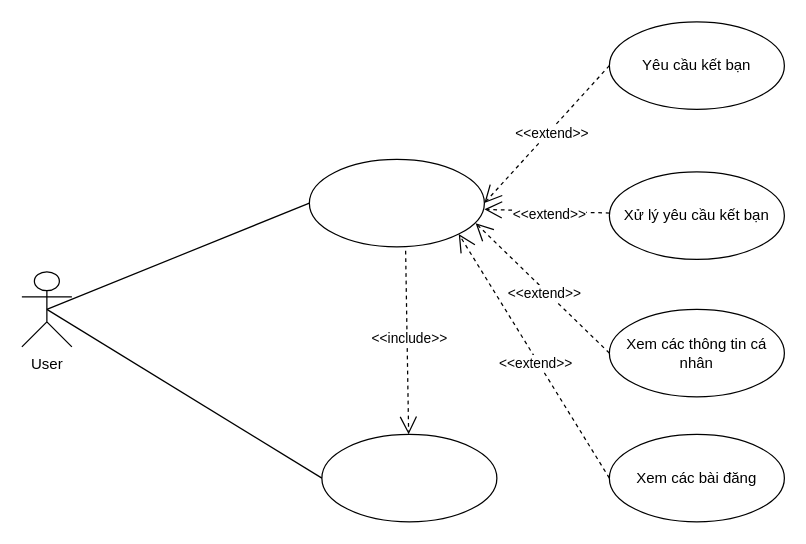
Some shapes in this 806 by 544 pixel diagram are drawn without their labels. Each missing label, with the centre of its shape:
"Xem thông tin người dùng" goes at (396,202).
"Đăng nhập" goes at (409,477).
